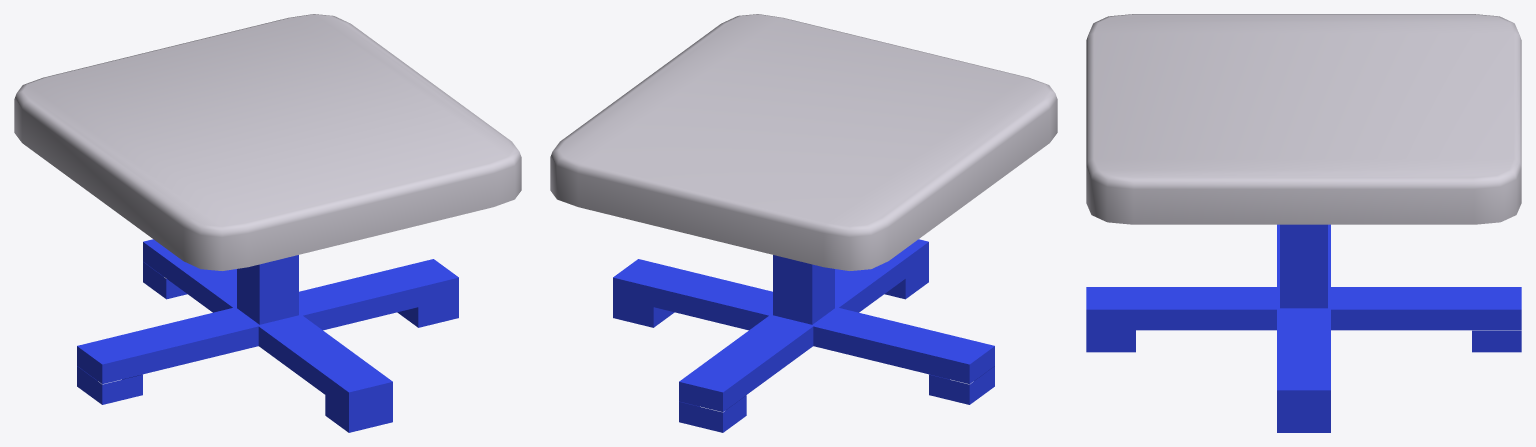
Rendered from ban 5.FBX.
The picture shows the model from 3 angles, left to right: view 1: azimuth 30°, elevation 25°; view 2: azimuth 150°, elevation 25°; view 3: azimuth 270°, elevation 25°; orthographic projection. The views are drawn at different scales.
Visible parts, largest first — view 1: Box1132; view 2: Box1132; view 3: Box1132.
Boxes of the visible parts, x1,y1,x2,y2 form: Box1132: (14, 14, 521, 432); Box1132: (550, 14, 1057, 432); Box1132: (1086, 14, 1521, 432).
Bounding box in the file's own units: 2.38 × 1.47 × 2.38.
